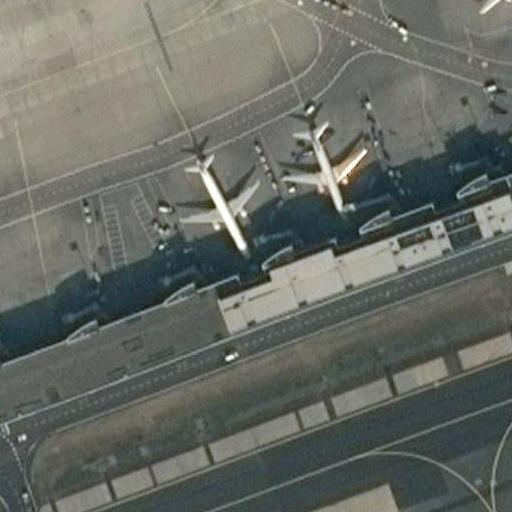Aircraft: (158, 139, 261, 258), (281, 109, 369, 218), (445, 0, 512, 18)
